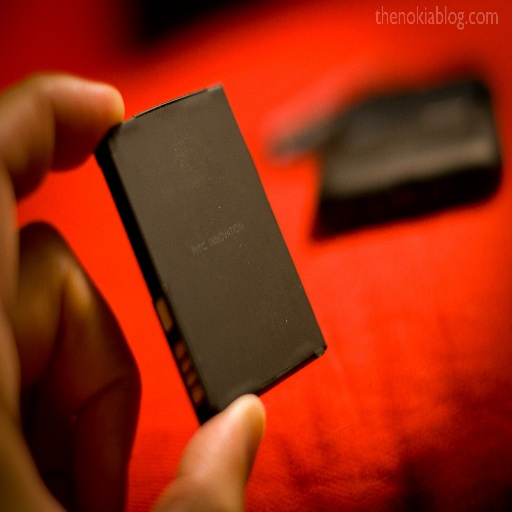hand: (0, 69, 266, 511)
